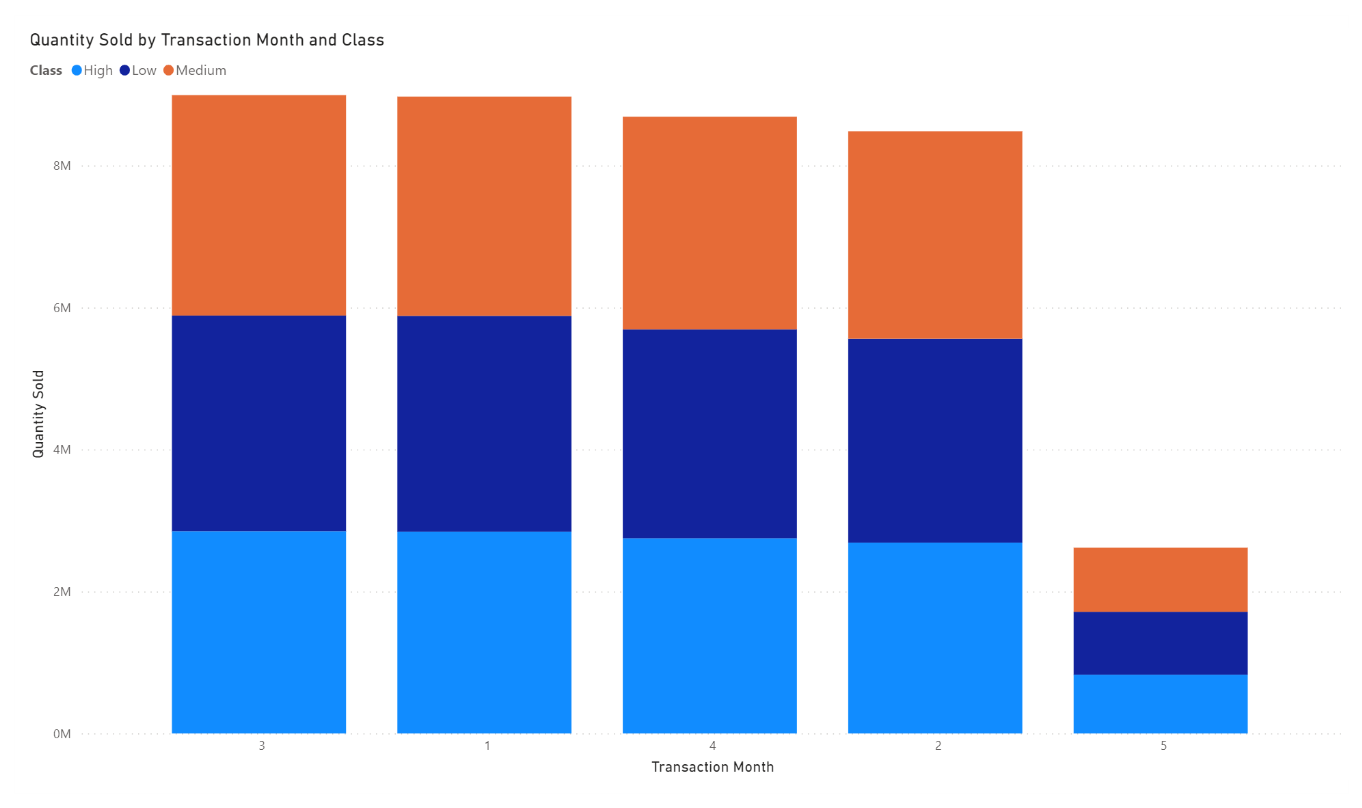

Layout of this report page (visuals, bound fields, positions):
{"tool":"powerbi","page":{"name":"Page 1","canvas":[1280,720],"ordinal":0},"visuals":[{"type":"columnChart","fields":{"Category":["Transaction Date.Transaction Month"],"Series":["Product.Class"],"Y":["Transaction Fact.Quantity Sold"]},"box":[10.2,0,1269.8,719.7],"z":0}]}

Visuals, with their boxes on the page's 1280x720 design canvas (x1, y1, x2, y2). These are canvas units, not pixel positions in the 1362x808 screenshot, which may show the page scaled, cropped or inside an application window:
columnChart - Transaction Date.Transaction Month x Product.Class: [left=10, top=0, right=1280, bottom=720]
